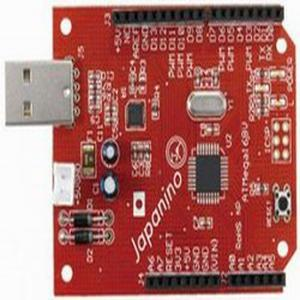duino: (51, 3, 294, 296)
